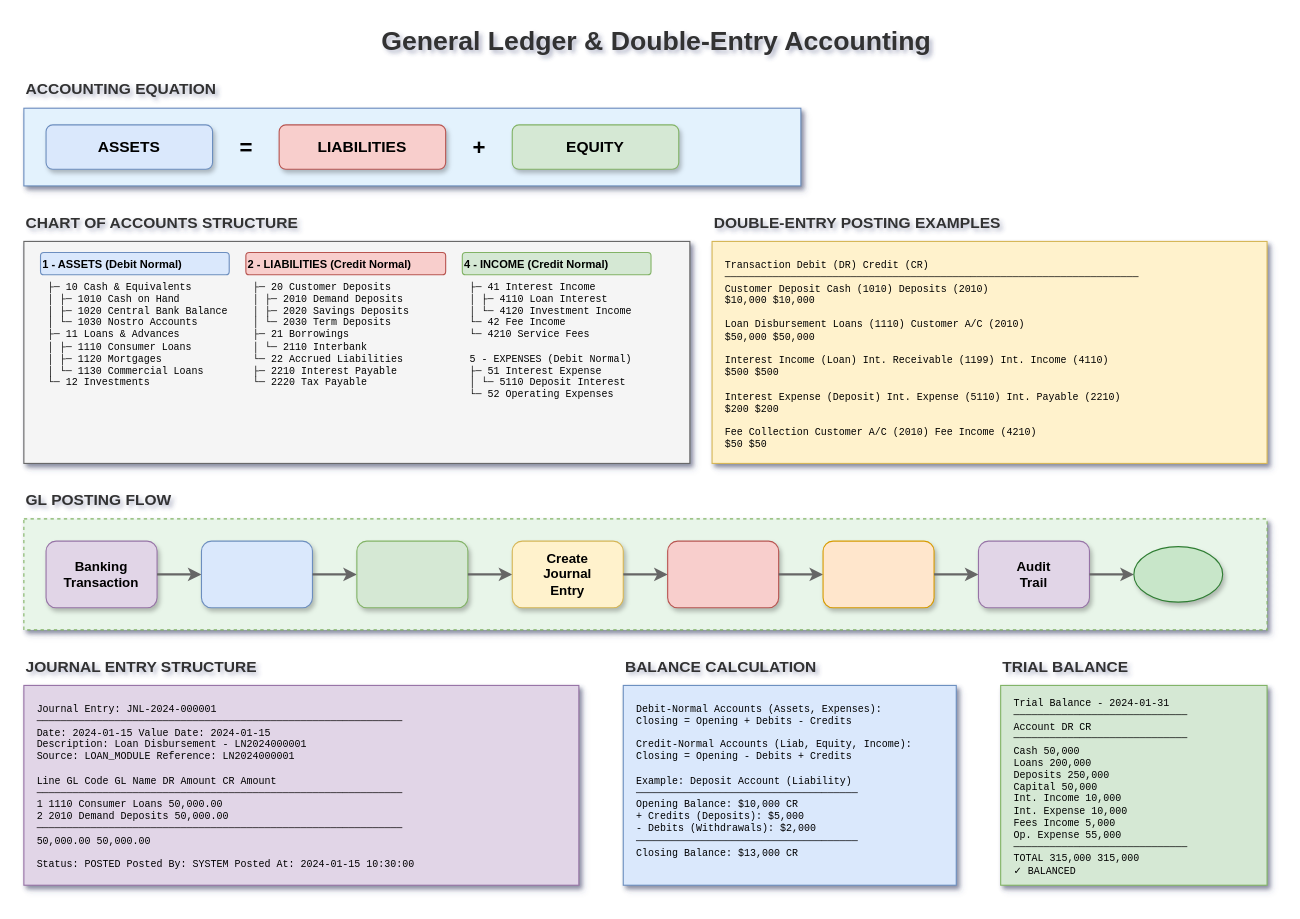
Image size: 1300x919. Some labels were removed from this diagram. The centre of each missing label's shape, as x and y in pixels:
Balance Validation (DR=CR): the point at 413,575
Complete: the point at 1178,575
Post to GL Accounts: the point at 723,575
Posting Rules Engine: the point at 257,575
Update GL Balances: the point at 879,575
